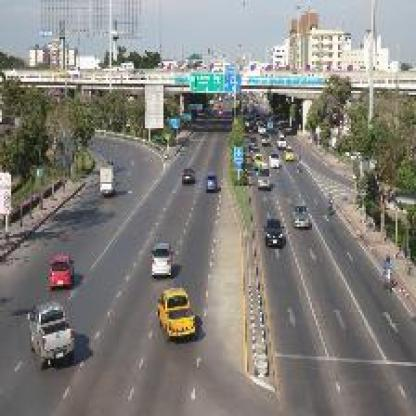other: (142, 284, 212, 344), (33, 242, 77, 293)
